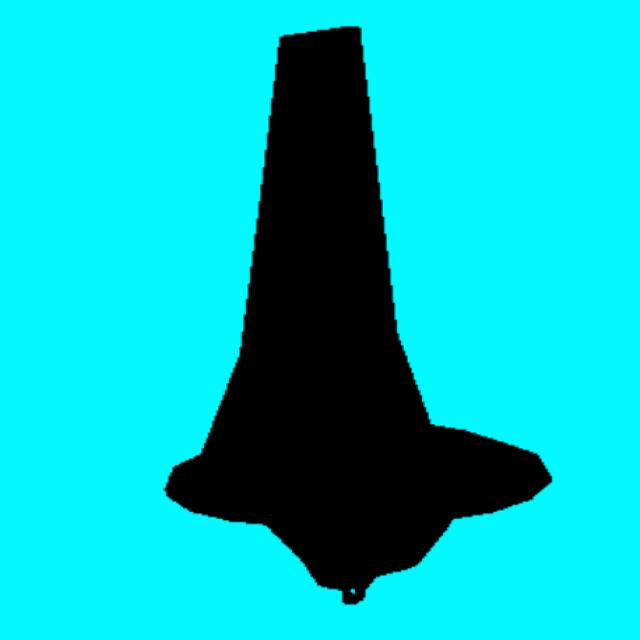BlackBuoy: (167, 28, 550, 604)
